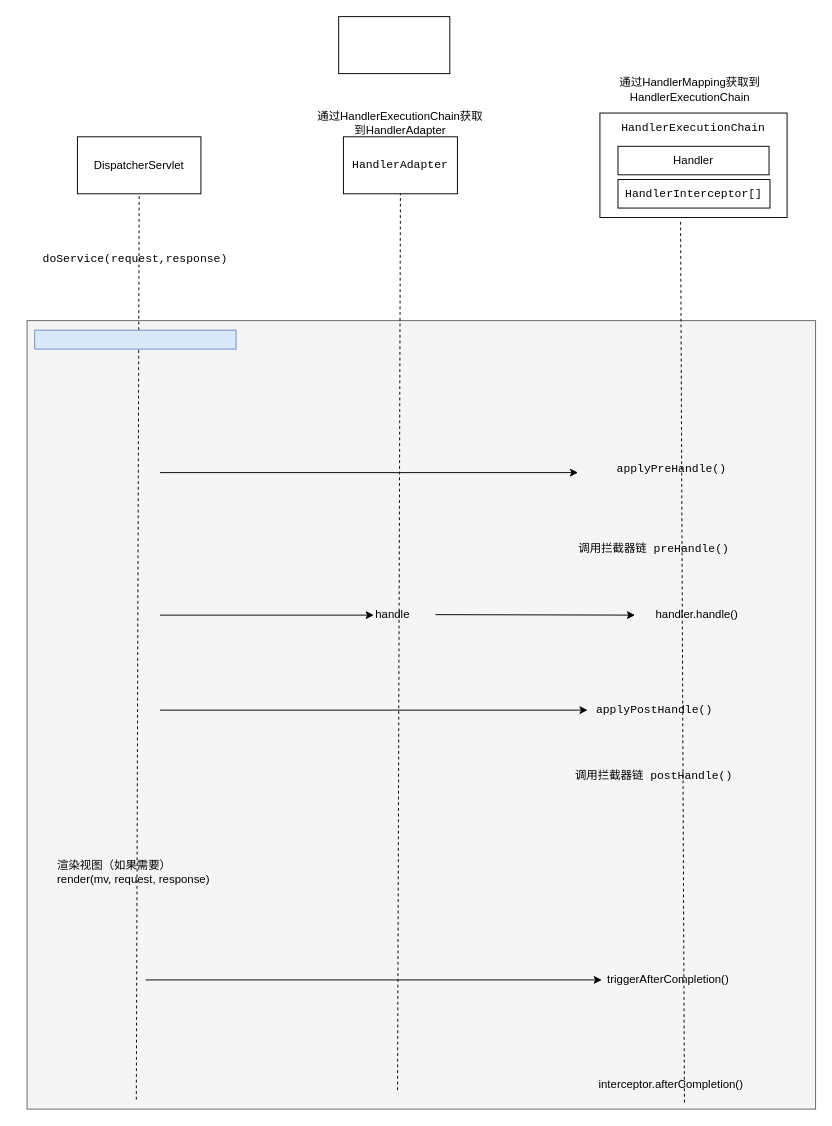
Some shapes in this 832 by 1126 pixel diagram are drawn without their labels. Each missing label, with the centre of its shape:
"doDispatch(request, response)" goes at pixel 135 339.
"HandlerMapping" goes at pixel 394 45.
